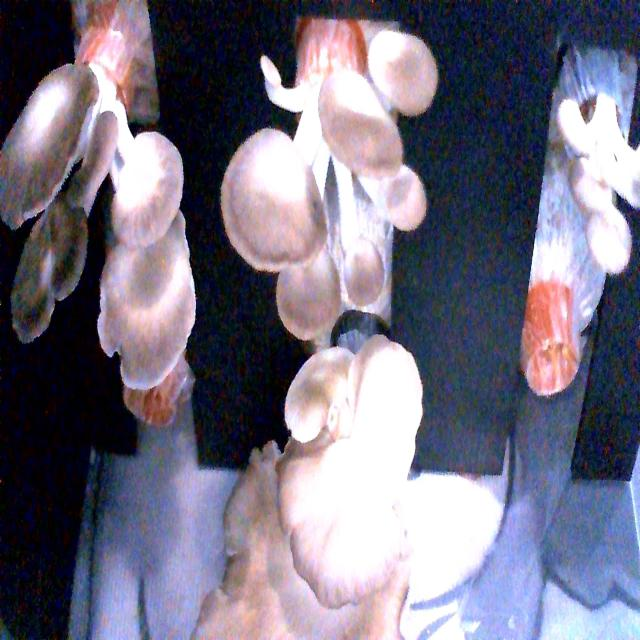big: (218, 36, 451, 332), (0, 56, 199, 392), (222, 348, 440, 632)
nfound: (120, 366, 184, 434), (524, 325, 583, 398)
small: (550, 76, 640, 279)
